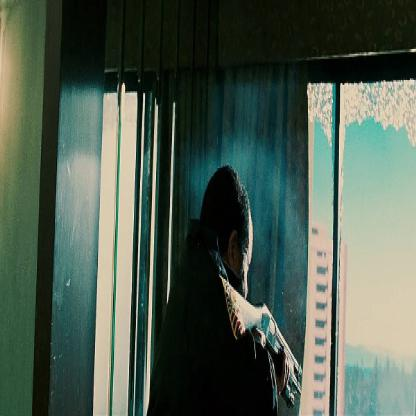Guns: (213, 260, 304, 414)
